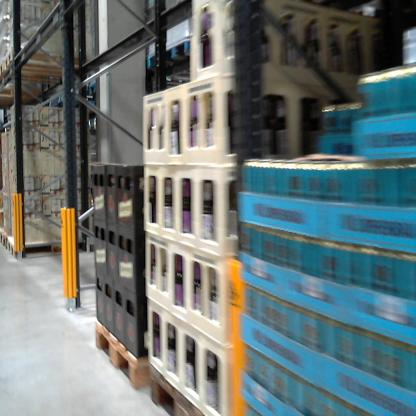pallet: (87, 321, 148, 392), (146, 363, 211, 413), (4, 42, 85, 72), (151, 35, 216, 72), (7, 230, 80, 260), (0, 60, 74, 84), (1, 79, 46, 104), (84, 76, 112, 99), (1, 227, 6, 252)
